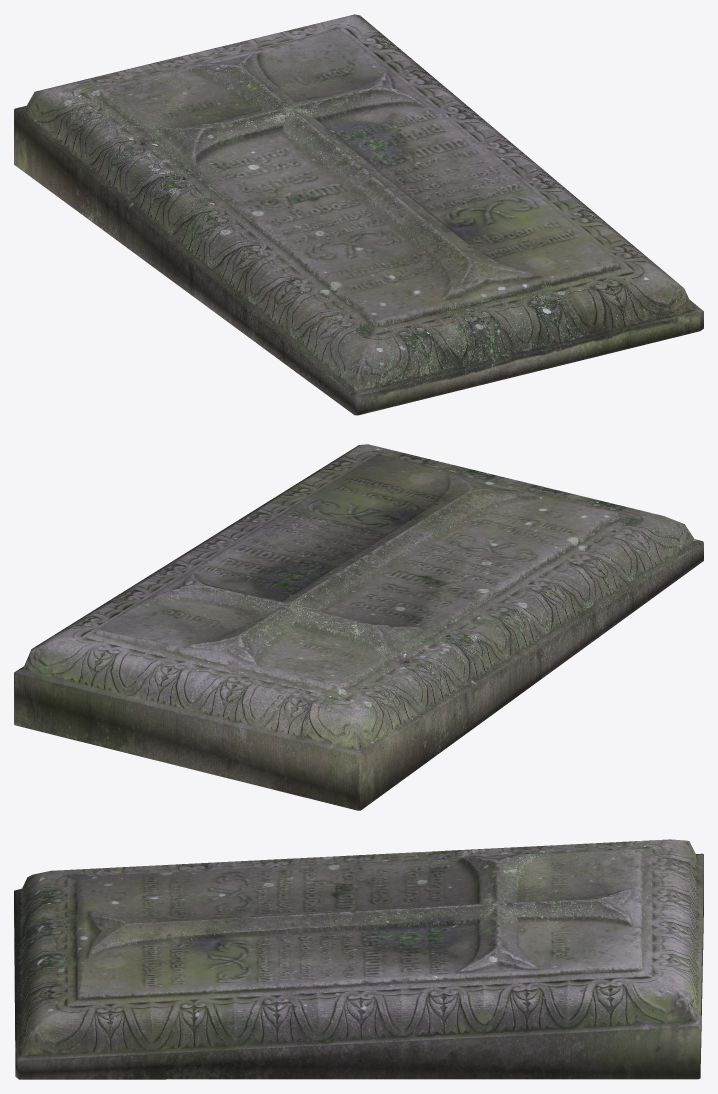
File: tumba.obj
The picture shows the model from 3 angles, top to bottom: view 1: azimuth 30°, elevation 25°; view 2: azimuth 150°, elevation 25°; view 3: azimuth 270°, elevation 25°; orthographic projection.
Parts seen in each view (by area): view 1: defaultMaterial001; view 2: defaultMaterial001; view 3: defaultMaterial001.
Boxes of the visible parts, left/top/right/bottom form: defaultMaterial001: left=14, top=14, right=703, bottom=415; defaultMaterial001: left=14, top=444, right=703, bottom=810; defaultMaterial001: left=14, top=839, right=703, bottom=1079.
Bounding box in the file's own units: 46.39 × 11.93 × 78.74.
1 material, 1 textured.
